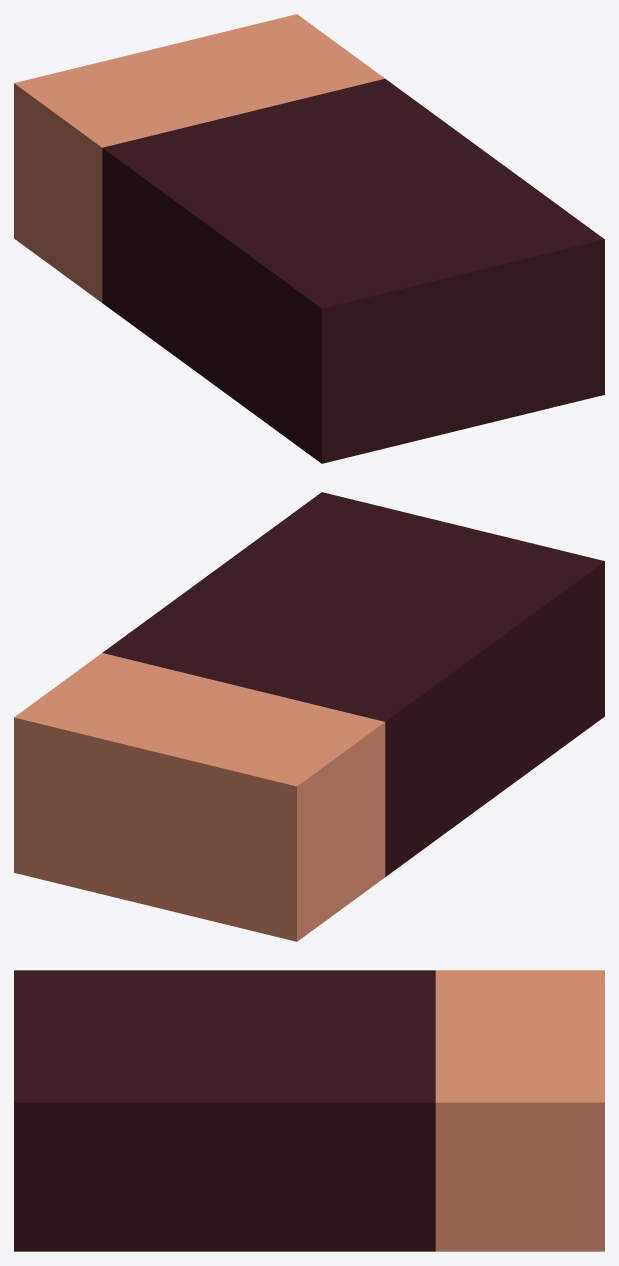
File: MatchBox.fbx
3 views of the same model, one above another, from view 1: azimuth 30°, elevation 25°; view 2: azimuth 150°, elevation 25°; view 3: azimuth 270°, elevation 25° (orthographic). The views are drawn at different scales.
Visible parts, largest first — view 1: Cube.003; view 2: Cube.003; view 3: Cube.003.
Boxes of the visible parts, bbox=[...] form: Cube.003: bbox=[14, 14, 604, 463]; Cube.003: bbox=[14, 492, 604, 941]; Cube.003: bbox=[14, 970, 604, 1251].
Bounding box in the file's own units: 128 × 67.32 × 242.
